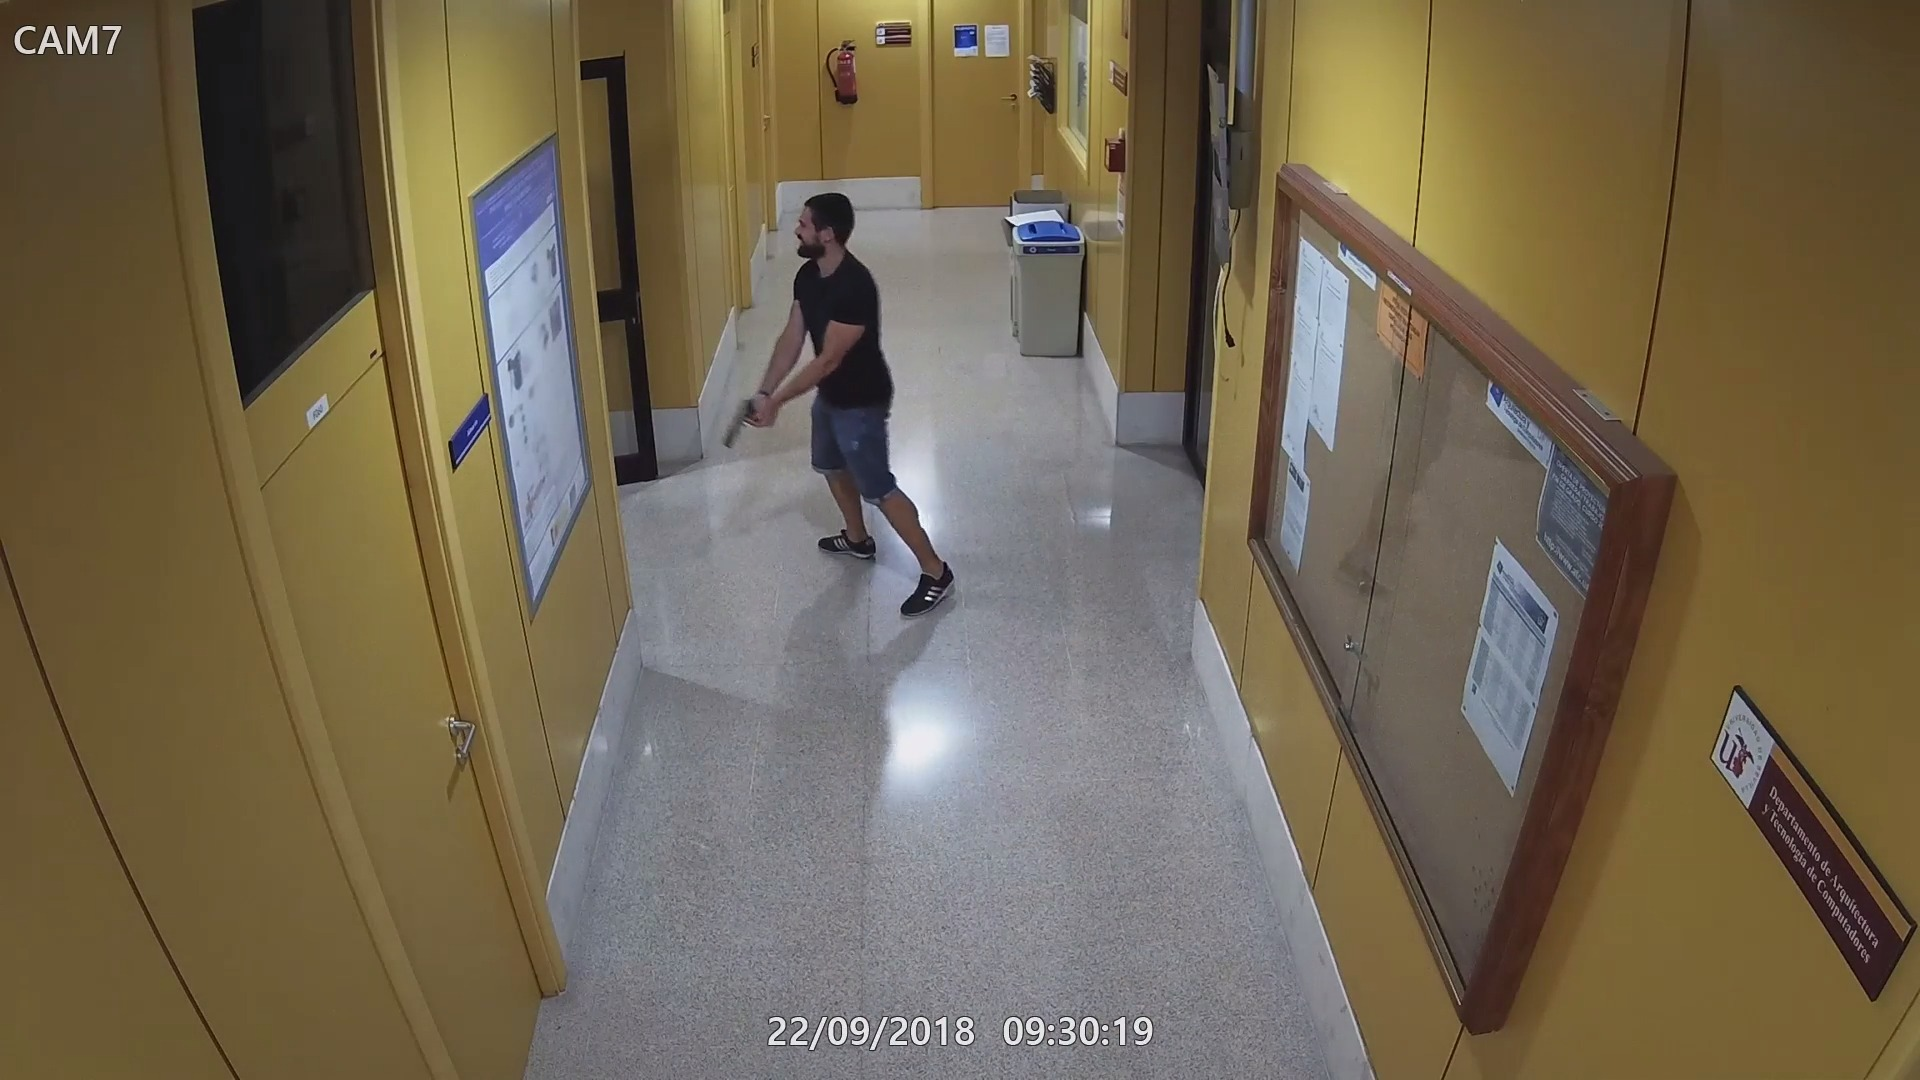Handgun: (719, 392, 778, 452)
